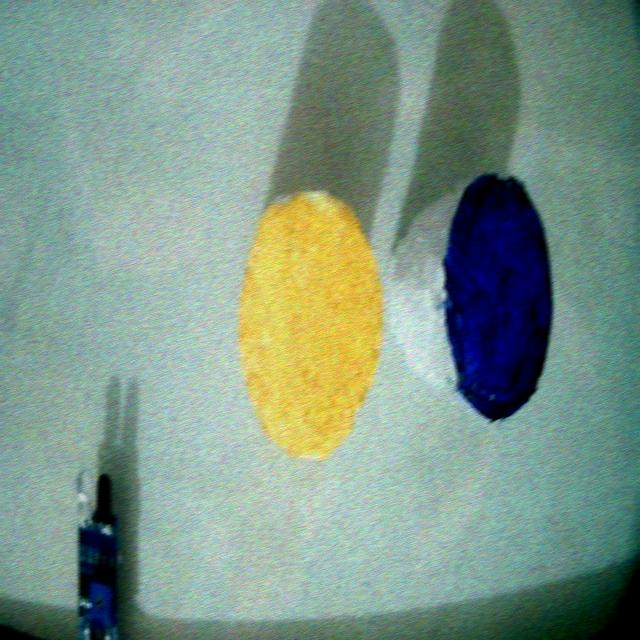blue: (443, 175, 552, 420)
yellow: (239, 192, 382, 456)
